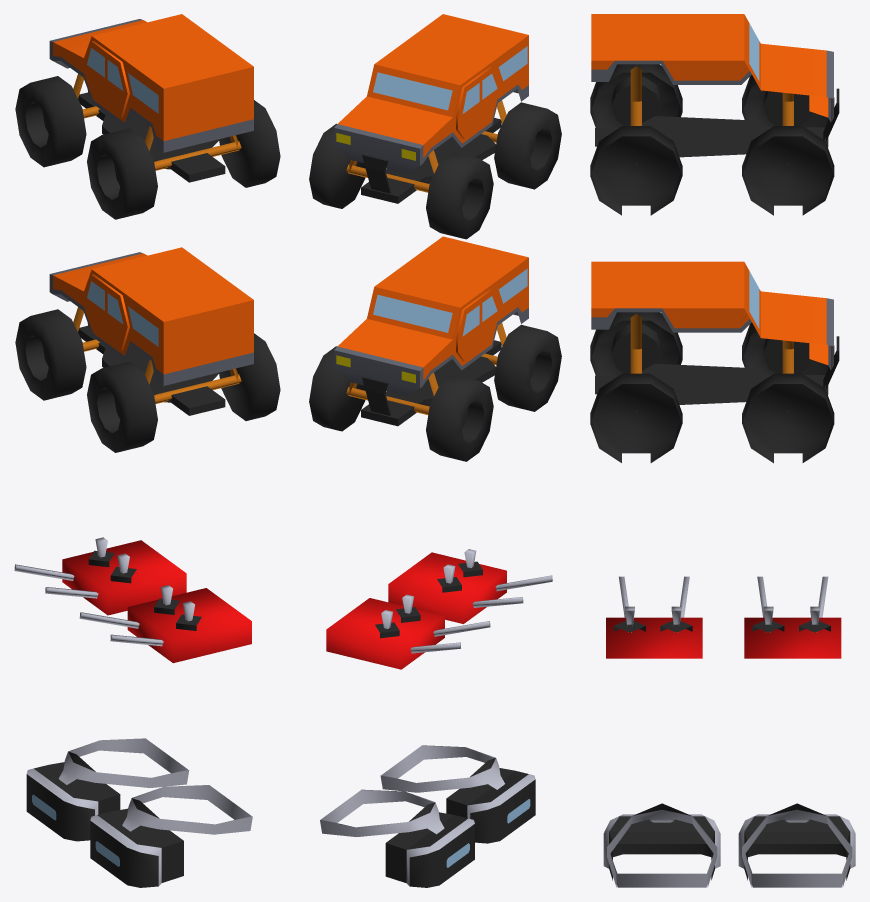
File: interior_E_012.fbx
3 renders of one model, left to right at view 1: azimuth 30°, elevation 25°; view 2: azimuth 150°, elevation 25°; view 3: azimuth 270°, elevation 25°, orthographic. The views are drawn at different scales.
Parts seen in each view (by area): view 1: interior_E_012; view 2: interior_E_012; view 3: interior_E_012.
Boxes of the visible parts, x1,y1,x2,y2 form: interior_E_012: [14, 14, 280, 887]; interior_E_012: [309, 14, 561, 887]; interior_E_012: [590, 14, 855, 887].
Bounding box in the file's own units: 37.17 × 183 × 51.83.
